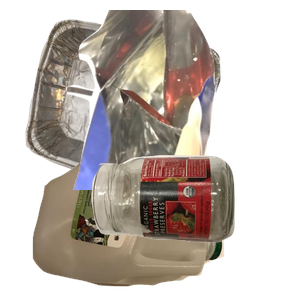glass: (89, 153, 300, 300)
metal: (23, 17, 236, 197)
plastic: (30, 159, 247, 300)
trash: (63, 10, 300, 190)
